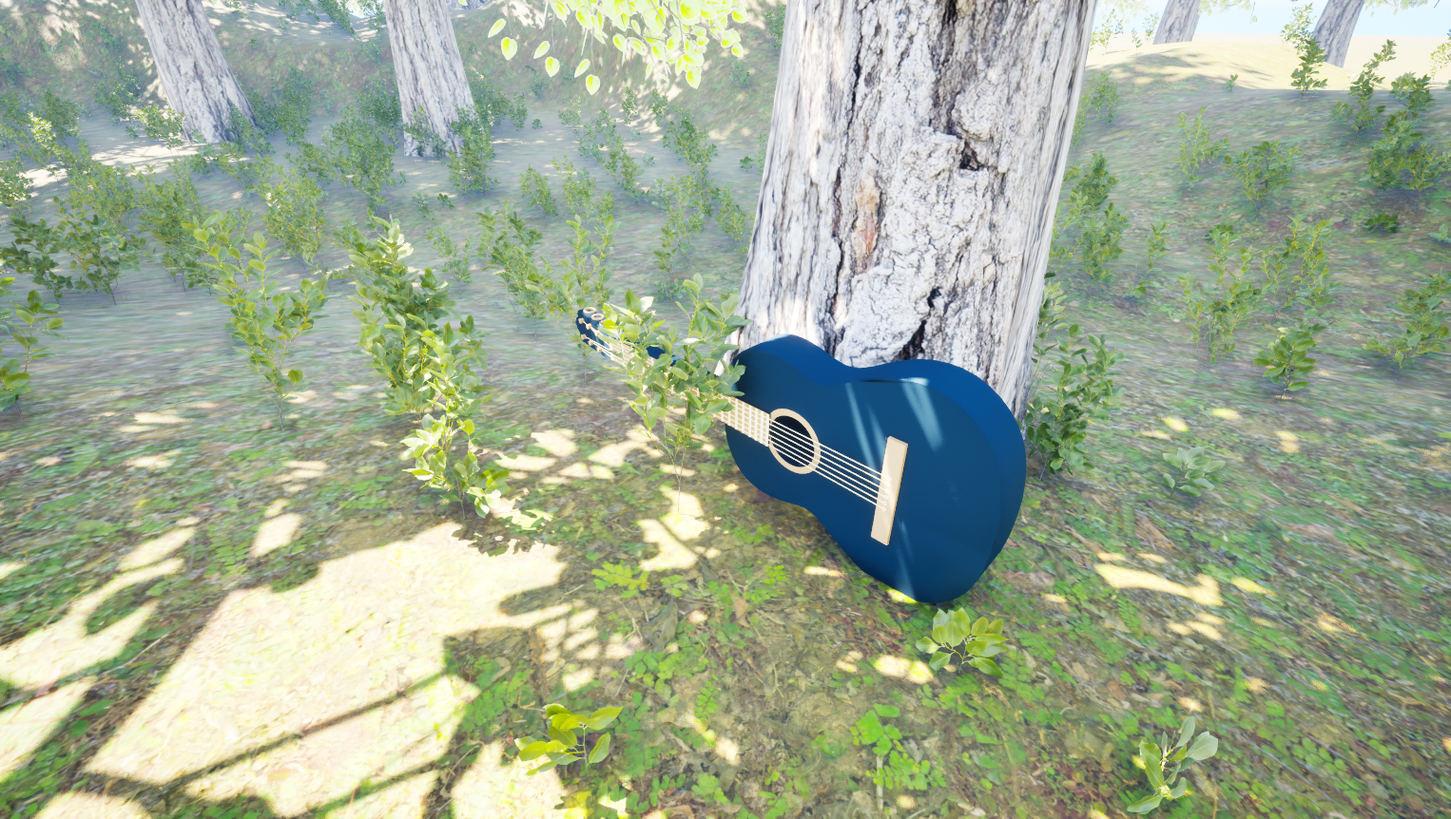Guitar: (553, 220, 1082, 731)
